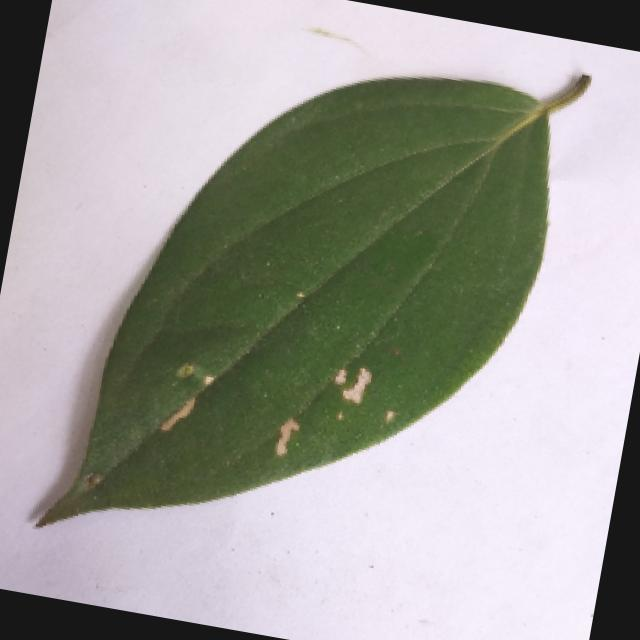pollu-disease: (3, 0, 632, 625)
